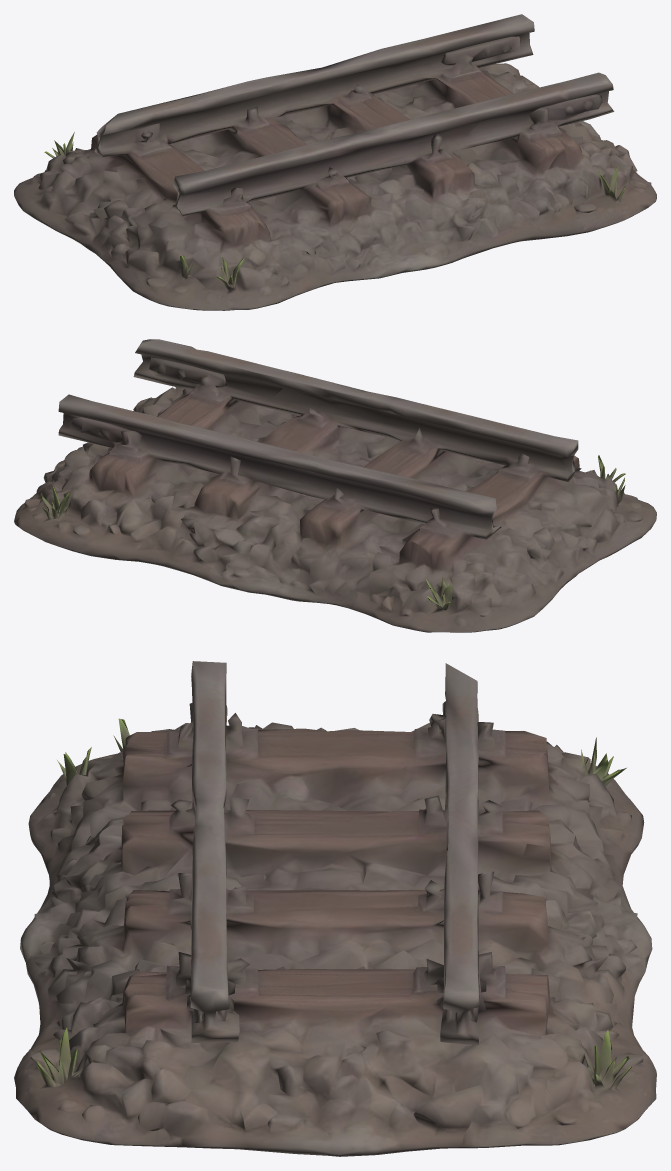
The model's file is railway_station_track.glb.
3 views of the same model, one above another, from view 1: azimuth 30°, elevation 25°; view 2: azimuth 150°, elevation 25°; view 3: azimuth 270°, elevation 25° (orthographic). The views are drawn at different scales.
Parts seen in each view (by area): view 1: tripo_node_c5a439d6-be65-4322-9f5c-34df8015173e; view 2: tripo_node_c5a439d6-be65-4322-9f5c-34df8015173e; view 3: tripo_node_c5a439d6-be65-4322-9f5c-34df8015173e.
Part boxes in pixels (x1,y1,x2,y2): tripo_node_c5a439d6-be65-4322-9f5c-34df8015173e: (14,14,656,310); tripo_node_c5a439d6-be65-4322-9f5c-34df8015173e: (14,339,656,632); tripo_node_c5a439d6-be65-4322-9f5c-34df8015173e: (14,661,656,1156).
Size of the model in its own units: 1 by 0.181 by 0.6851.
Materials: 1 (1 with a texture image).
